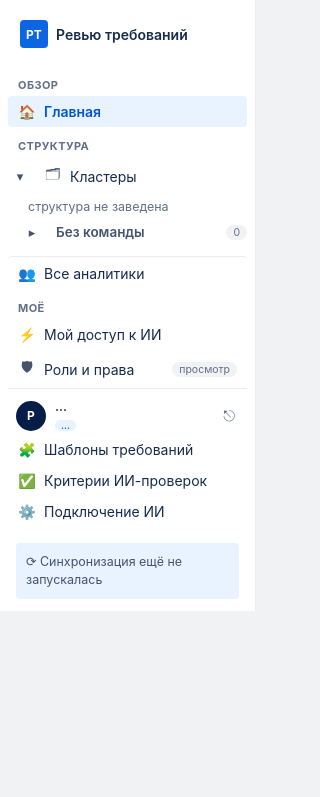
Test: Sidebar › expanding an analyst lazily loads 5 docs (page_size=5) and shows the rest-link
The width and height of the screenshot is (320, 797).
Click the button named "Аналитики без команды": coordinates (32, 232) [20,218,44,246]
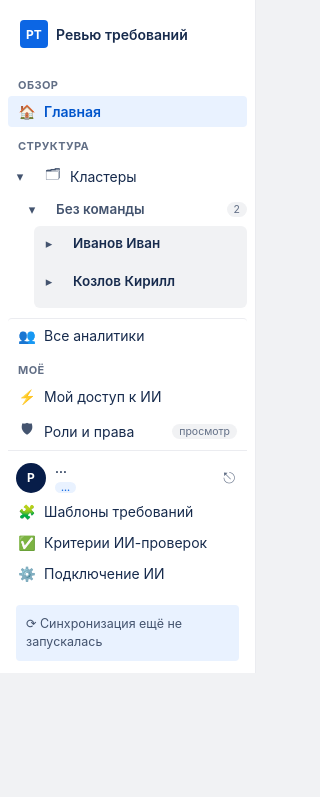
Click the button named "Документы аналитика Иванов Иван": coordinates (49, 243) [37,229,61,257]
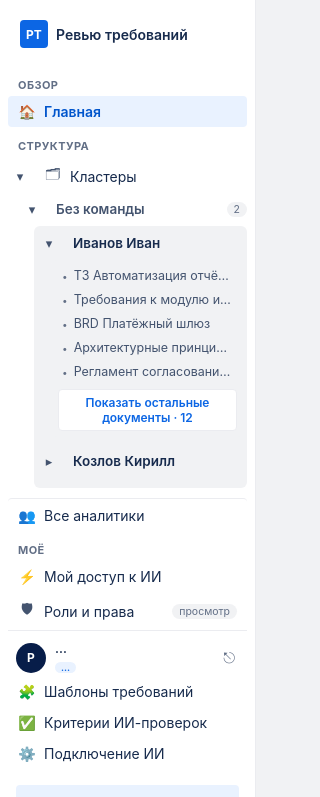
Now the link "• BRD Платёжный шлюз" is shown, box [62,316,210,331]
